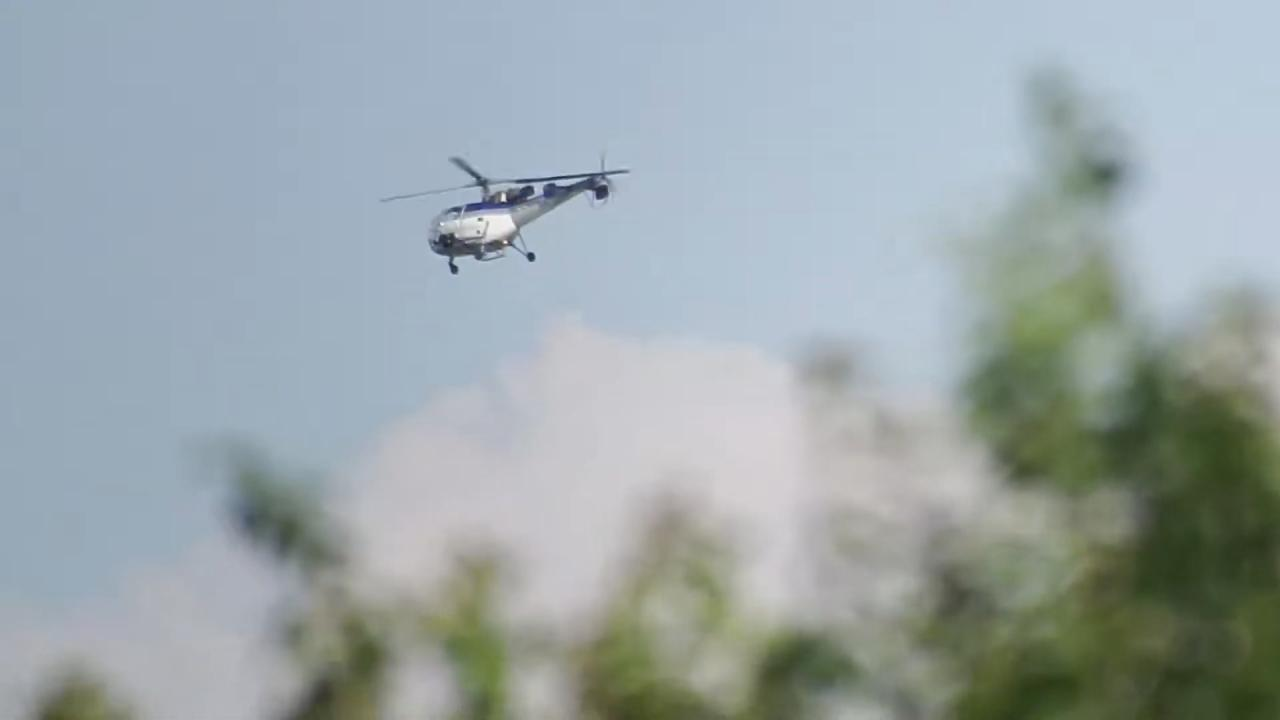Helicopter: (363, 139, 646, 280)
